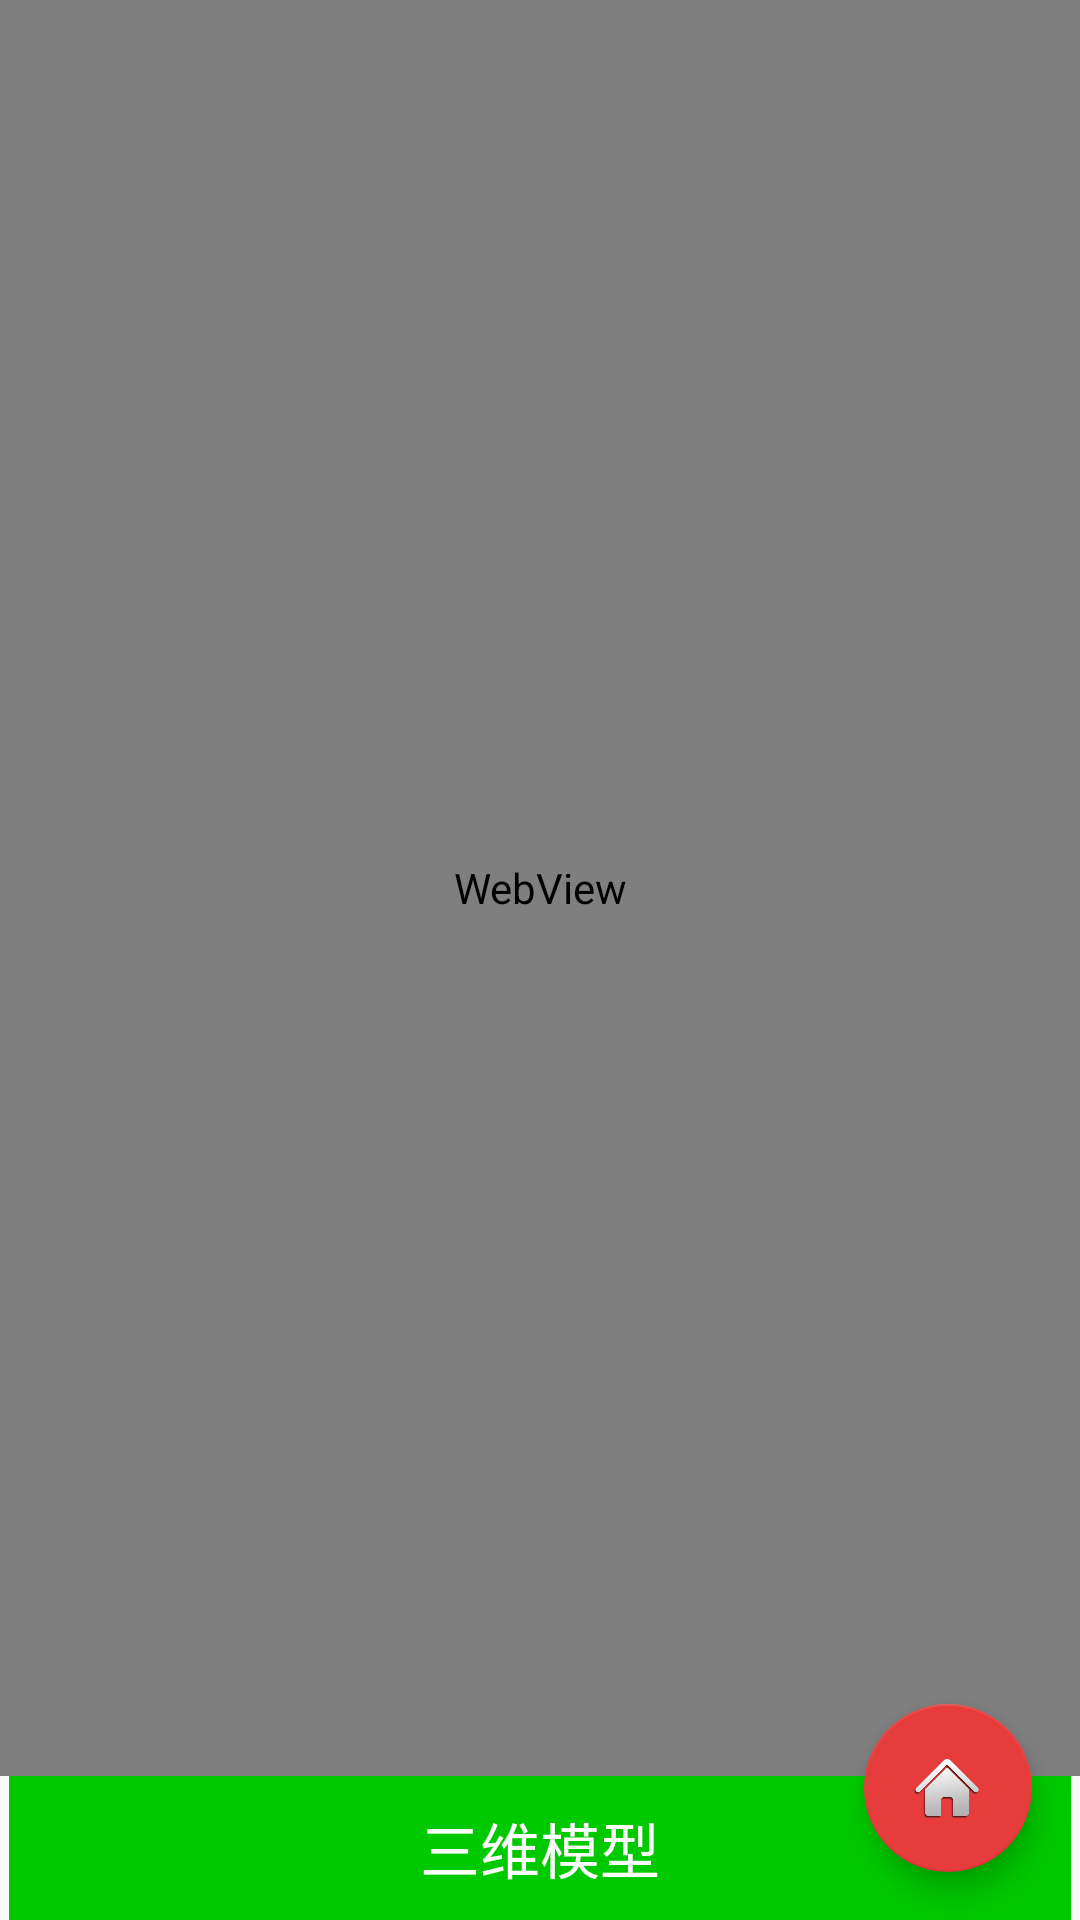

Icon click points for this 1080px×1920px phone screenshot, format [x,y]:
home: [948,1788]
